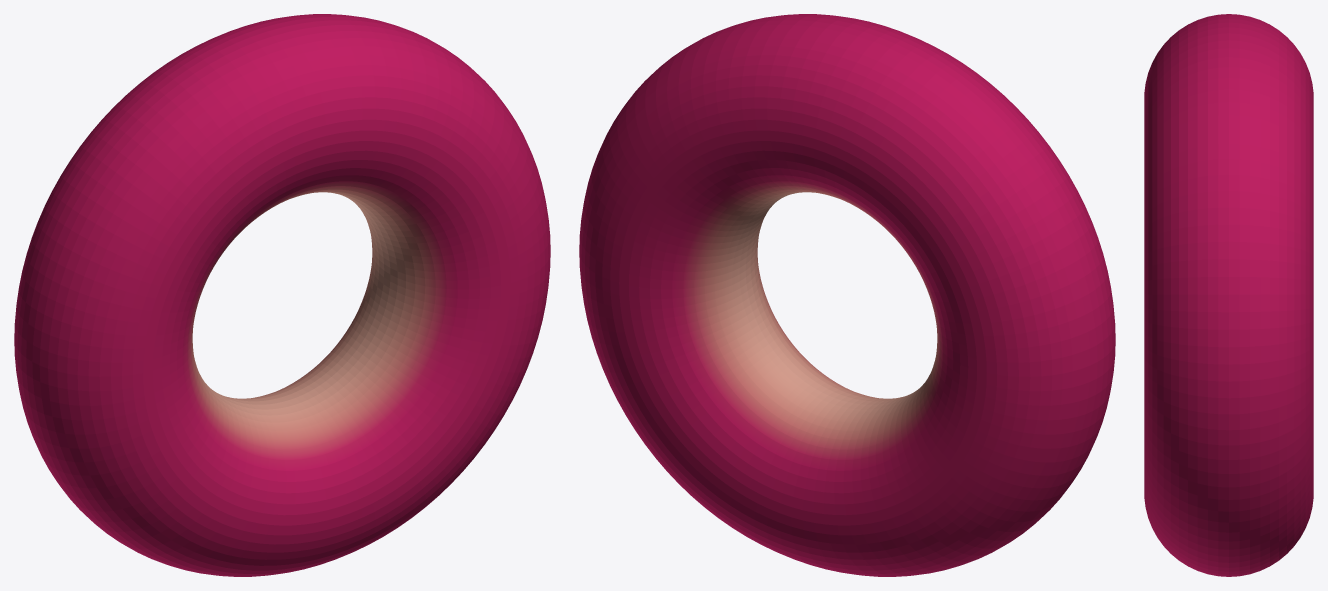
3 renders of one model, left to right at view 1: azimuth 30°, elevation 25°; view 2: azimuth 150°, elevation 25°; view 3: azimuth 270°, elevation 25°, orthographic. The views are drawn at different scales.
Visible parts, largest first — view 1: world; view 2: world; view 3: world.
Part boxes in pixels (box(x1,y1,x2,y2)): world: box(14, 14, 550, 576); world: box(579, 14, 1115, 576); world: box(1144, 14, 1313, 576).
Bounding box in the file's own units: 18.13 × 18.13 × 5.46.
